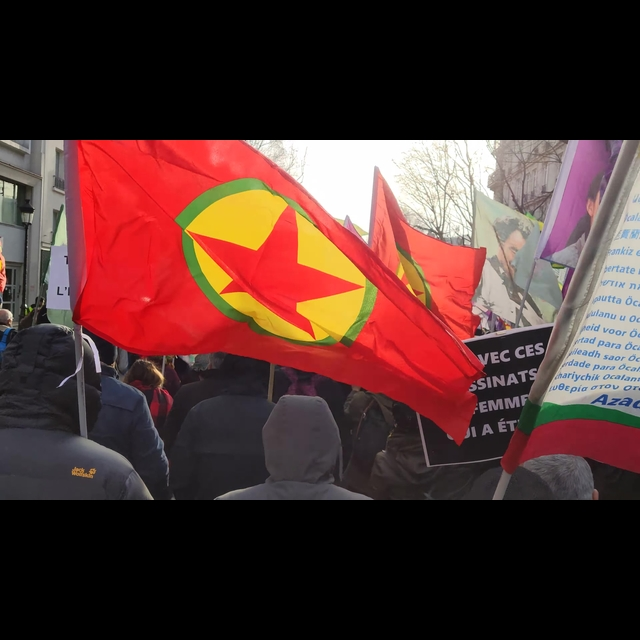PKK: (66, 142, 370, 354)
